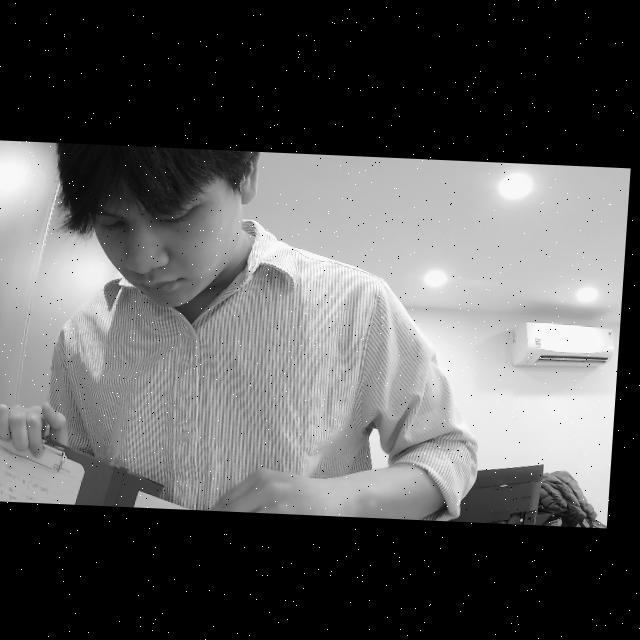document: (0, 427, 87, 505)
face: (63, 147, 254, 320)
